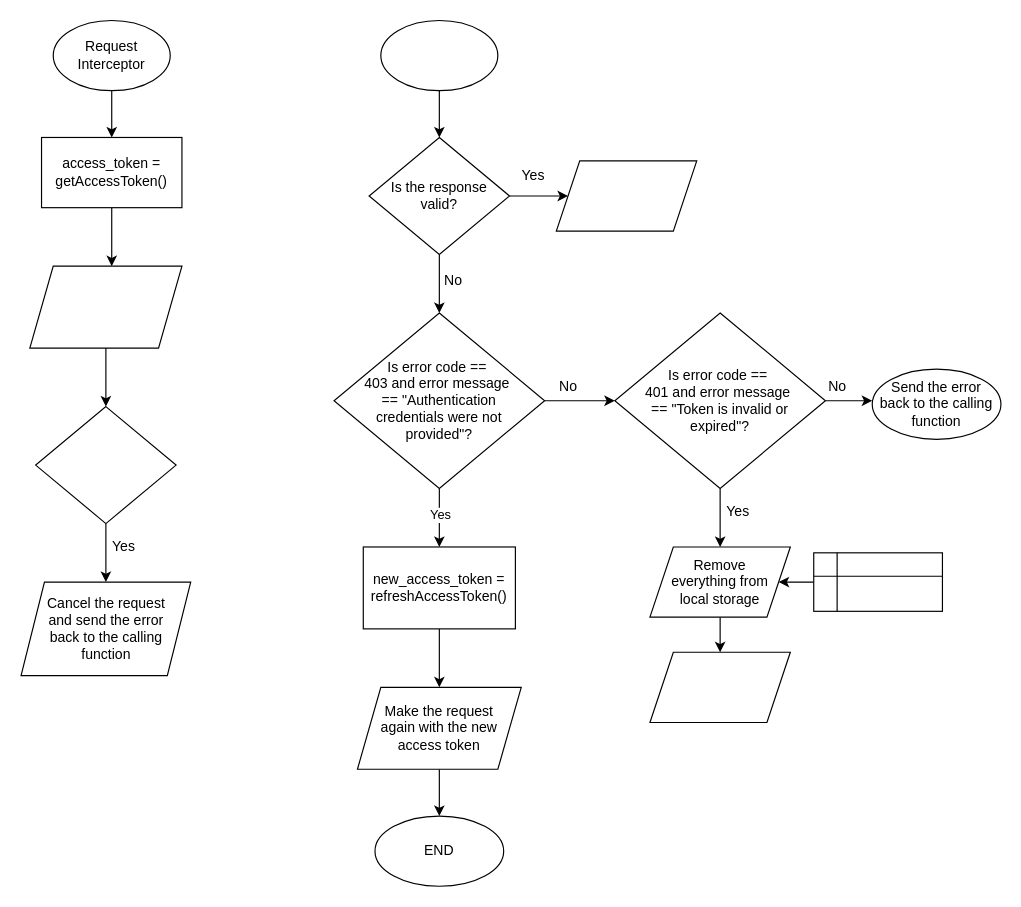
The diagram is 1021 pixels wide and 907 high, and some of its shapes have lost their labels. Here are the shapes that lost their labels. From the top down, the centre of each, then its label:
the point at 439,55: Response Interceptor
the point at 626,195: Return received response
the point at 105,306: Send the request with the access token in the header
the point at 105,464: Was an error encountered?
the point at 877,581: local_storage
the point at 719,686: Redirect user to their appropriate login page
